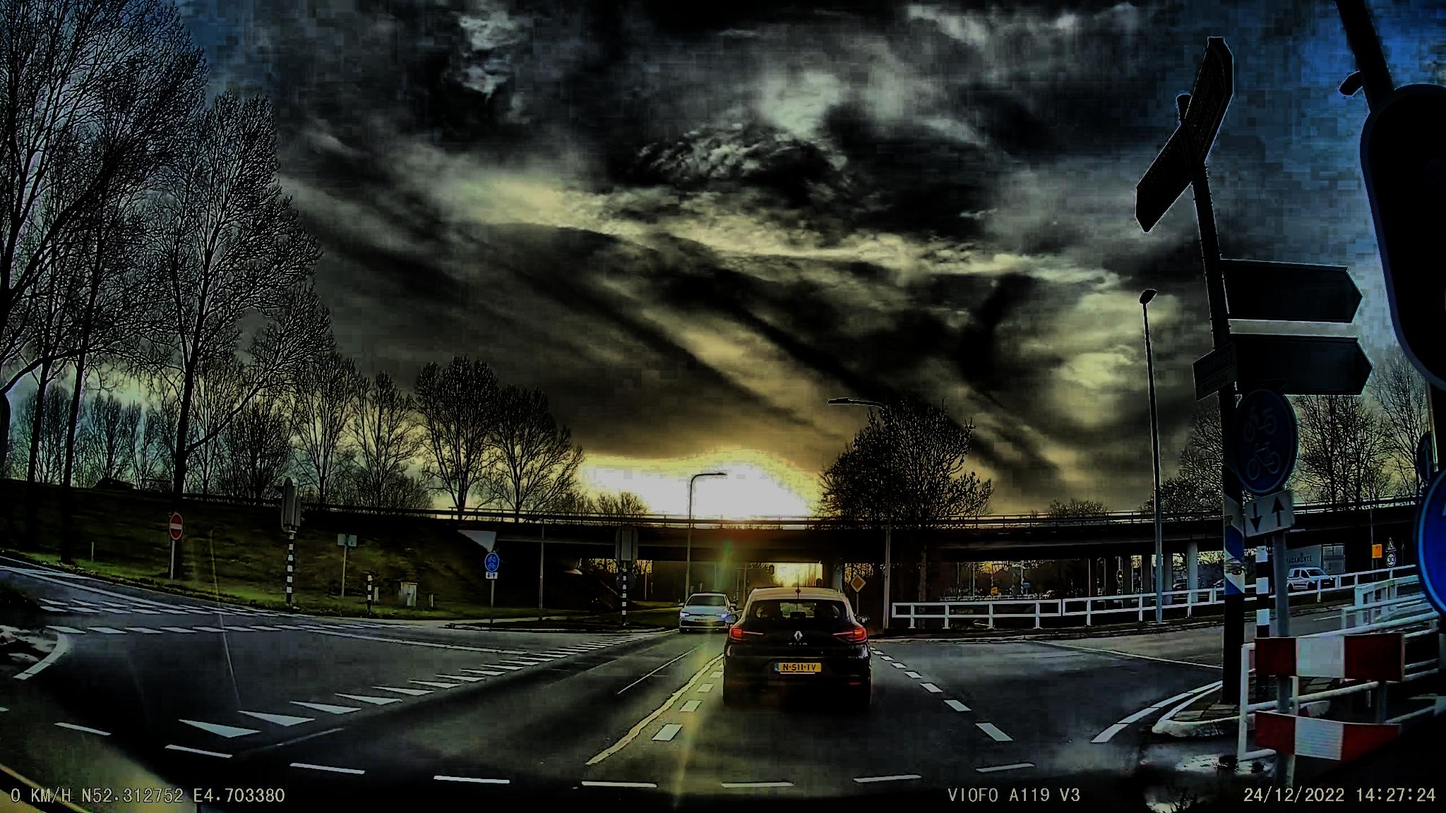Roads: (0, 563, 1239, 813)
